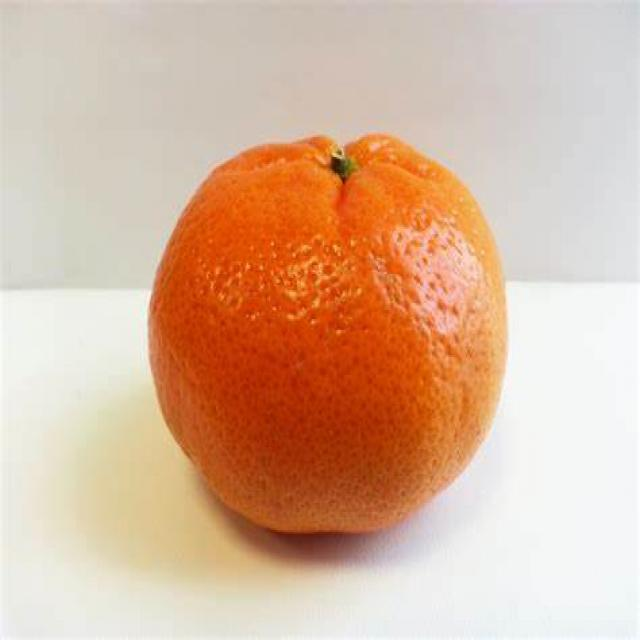Orange: (150, 133, 510, 539)
